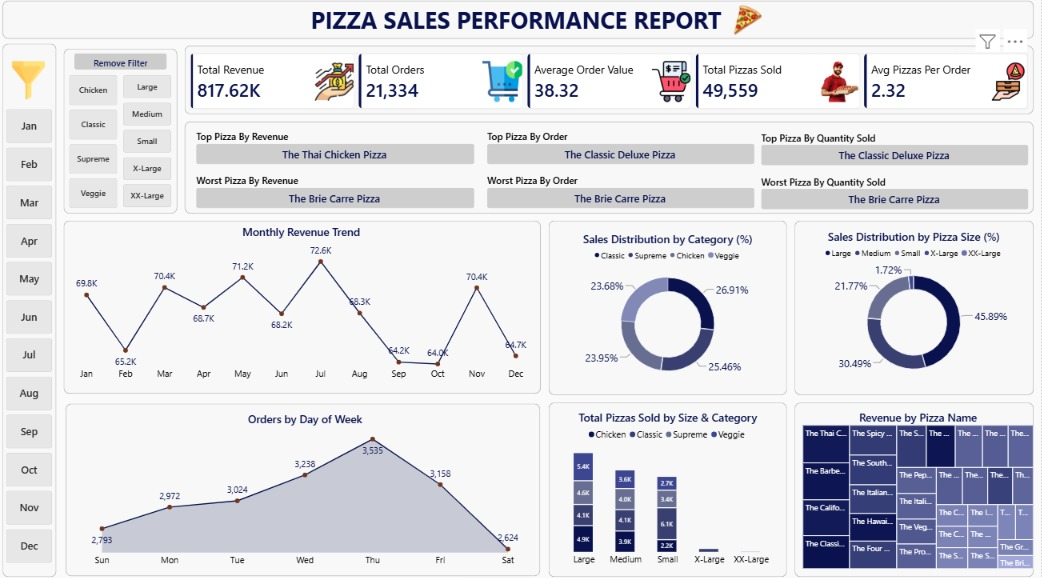

The page's visual inventory and layout, read from the dashboard file:
{"tool":"powerbi","page":{"name":"DASHBOARD","canvas":[1920,1080],"ordinal":0},"visuals":[{"type":"shape","box":[12.9,10,1892.9,71.4],"z":0,"group":"g1"},{"type":"group","id":"g1","title":"Group 1","box":[12.9,10,1892.9,1058.6],"z":0},{"type":"advancedSlicerVisual","title":"Top Pizza By Revenue","fields":{"Values":["PIZZA SALES.pizza_name"]},"box":[368.6,247.6,510,62.9],"z":0,"group":"g2"},{"type":"shape","box":[13.2,88,100,980],"z":1000,"group":"g1"},{"type":"cardVisual","fields":{"Data":["PIZZA SALES.Total Revenue","PIZZA SALES.Total Orders","PIZZA SALES.Average Order Value","PIZZA SALES.Total Pizzas Sold","PIZZA SALES.Avg Pizzas Per Order"]},"box":[357.1,107.1,1537.1,102.9],"z":1000},{"type":"advancedSlicerVisual","title":"Worst Pizza By Revenue","fields":{"Values":["PIZZA SALES.pizza_name"]},"box":[368.6,329,510,62.9],"z":1000,"group":"g2"},{"type":"shape","box":[125.2,98,210,304],"z":2000,"group":"g1"},{"type":"lineChart","title":"Monthly Revenue Trend","fields":{"Category":["PIZZA SALES.Month Name"],"Y":["PIZZA SALES.Total Revenue"]},"box":[125.6,413.3,876.7,322.2],"z":2000},{"type":"shape","box":[124.2,413.3,876.7,318.9],"z":3000,"group":"g1"},{"type":"lineChart","title":"Orders by Day of Week","fields":{"Category":["PIZZA SALES.Day Name"],"Y":["PIZZA SALES.Total Orders"]},"box":[130,748,876,320],"z":3000},{"type":"donutChart","title":"Sales Distribution by Category (%)","fields":{"Category":["PIZZA SALES.pizza_category"],"Y":["PIZZA SALES.Total Revenue"]},"box":[1014.3,418.6,438.6,314.3],"z":4000},{"type":"shape","box":[129.2,750,872,318],"z":4000,"group":"g1"},{"type":"shape","box":[1014.3,414.3,438.6,321.4],"z":5000,"group":"g1"},{"type":"donutChart","title":"Sales Distribution by Pizza Size (%)","fields":{"Category":["PIZZA SALES.pizza_size"],"Y":["PIZZA SALES.Total Revenue"]},"box":[1465.7,414.3,438.6,314.3],"z":5000},{"type":"shape","box":[1465.8,414.3,440,321.4],"z":6000,"group":"g1"},{"type":"columnChart","title":"Total Pizzas Sold by Size & Category","fields":{"Category":["PIZZA SALES.pizza_size"],"Series":["PIZZA SALES.pizza_category"],"Y":["PIZZA SALES.Total Pizzas Sold"]},"box":[1014.3,747.1,438.6,321.4],"z":6000},{"type":"shape","box":[347.2,92.9,1558.6,127.1],"z":7000,"group":"g1"},{"type":"treemap","title":"Revenue by Pizza Name","fields":{"Group":["PIZZA SALES.pizza_name"],"Values":["PIZZA SALES.Total Revenue"]},"box":[1465.7,747.1,454.3,321.4],"z":7000},{"type":"shape","box":[347.2,232.9,1558.6,170],"z":8000,"group":"g1"},{"type":"advancedSlicerVisual","title":"Top Pizza By Order","fields":{"Values":["PIZZA SALES.pizza_name"]},"box":[902.9,247.8,490,62.9],"z":8000},{"type":"advancedSlicerVisual","title":"Worst Pizza By Order","fields":{"Values":["PIZZA SALES.pizza_name"]},"box":[902.9,329.2,490,62.9],"z":9000},{"type":"shape","box":[1014.3,747.1,438.6,321.4],"z":9000,"group":"g1"},{"type":"group","id":"g2","title":"Group 3","box":[368.6,247.6,510,144.3],"z":10000},{"type":"shape","box":[1465.8,747.1,440,321.4],"z":10000,"group":"g1"},{"type":"advancedSlicerVisual","title":"Top Pizza By Quantity Sold","fields":{"Values":["PIZZA SALES.pizza_name"]},"box":[1404.3,249,490,62.9],"z":11000},{"type":"advancedSlicerVisual","title":"Worst Pizza By Quantity Sold","fields":{"Values":["PIZZA SALES.pizza_name"]},"box":[1404.3,330.4,490,62.9],"z":12000},{"type":"advancedSlicerVisual","fields":{"Values":["PIZZA SALES.Month Name"]},"box":[21,210,84,842],"z":13000},{"type":"advancedSlicerVisual","fields":{"Values":["PIZZA SALES.pizza_category"]},"box":[136.5,147.5,88.5,246],"z":14000},{"type":"advancedSlicerVisual","fields":{"Values":["PIZZA SALES.pizza_size"]},"box":[235.5,147.5,88.5,246],"z":15000},{"type":"actionButton","box":[144.3,107.1,170,30],"z":15001},{"type":"image","box":[17.1,121.4,88.6,70],"z":15002},{"type":"textbox","box":[10,8,1892.9,71.4],"z":15003},{"type":"image","box":[1327.1,14.3,101.4,62.9],"z":15004},{"type":"image","box":[1.4,20,128.6,51.4],"z":15005},{"type":"textbox","box":[105.7,21.4,184.3,47.1],"z":15006}]}

Visuals, with their boxes in screenshot pixels (x1, y1, x2, y2), scaled from the page's 1920x1080 canvas onto the 1042x578 screenshot:
shape: select_region(7, 5, 1034, 44)
"Group 1" group: select_region(7, 5, 1034, 572)
"Top Pizza By Revenue" advancedSlicerVisual: select_region(200, 133, 477, 166)
shape: select_region(7, 47, 61, 572)
cardVisual - PIZZA SALES.Total Revenue x PIZZA SALES.Total Orders: select_region(194, 57, 1028, 112)
"Worst Pizza By Revenue" advancedSlicerVisual: select_region(200, 176, 477, 210)
shape: select_region(68, 52, 182, 215)
"Monthly Revenue Trend" lineChart: select_region(68, 221, 544, 394)
shape: select_region(67, 221, 543, 392)
"Orders by Day of Week" lineChart: select_region(71, 400, 546, 572)
"Sales Distribution by Category (%)" donutChart: select_region(550, 224, 789, 392)
shape: select_region(70, 401, 543, 572)
shape: select_region(550, 222, 789, 394)
"Sales Distribution by Pizza Size (%)" donutChart: select_region(795, 222, 1033, 390)
shape: select_region(796, 222, 1034, 394)
"Total Pizzas Sold by Size & Category" columnChart: select_region(550, 400, 789, 572)
shape: select_region(188, 50, 1034, 118)
"Revenue by Pizza Name" treemap: select_region(795, 400, 1041, 572)
shape: select_region(188, 125, 1034, 216)
"Top Pizza By Order" advancedSlicerVisual: select_region(490, 133, 756, 166)
"Worst Pizza By Order" advancedSlicerVisual: select_region(490, 176, 756, 210)
shape: select_region(550, 400, 789, 572)
"Group 3" group: select_region(200, 133, 477, 210)
shape: select_region(796, 400, 1034, 572)
"Top Pizza By Quantity Sold" advancedSlicerVisual: select_region(762, 133, 1028, 167)
"Worst Pizza By Quantity Sold" advancedSlicerVisual: select_region(762, 177, 1028, 210)
advancedSlicerVisual - PIZZA SALES.Month Name: select_region(11, 112, 57, 563)
advancedSlicerVisual - PIZZA SALES.pizza_category: select_region(74, 79, 122, 211)
advancedSlicerVisual - PIZZA SALES.pizza_size: select_region(128, 79, 176, 211)
actionButton: select_region(78, 57, 171, 73)
image: select_region(9, 65, 57, 102)
textbox: select_region(5, 4, 1033, 42)
image: select_region(720, 8, 775, 41)
image: select_region(1, 11, 71, 38)
textbox: select_region(57, 11, 157, 37)
